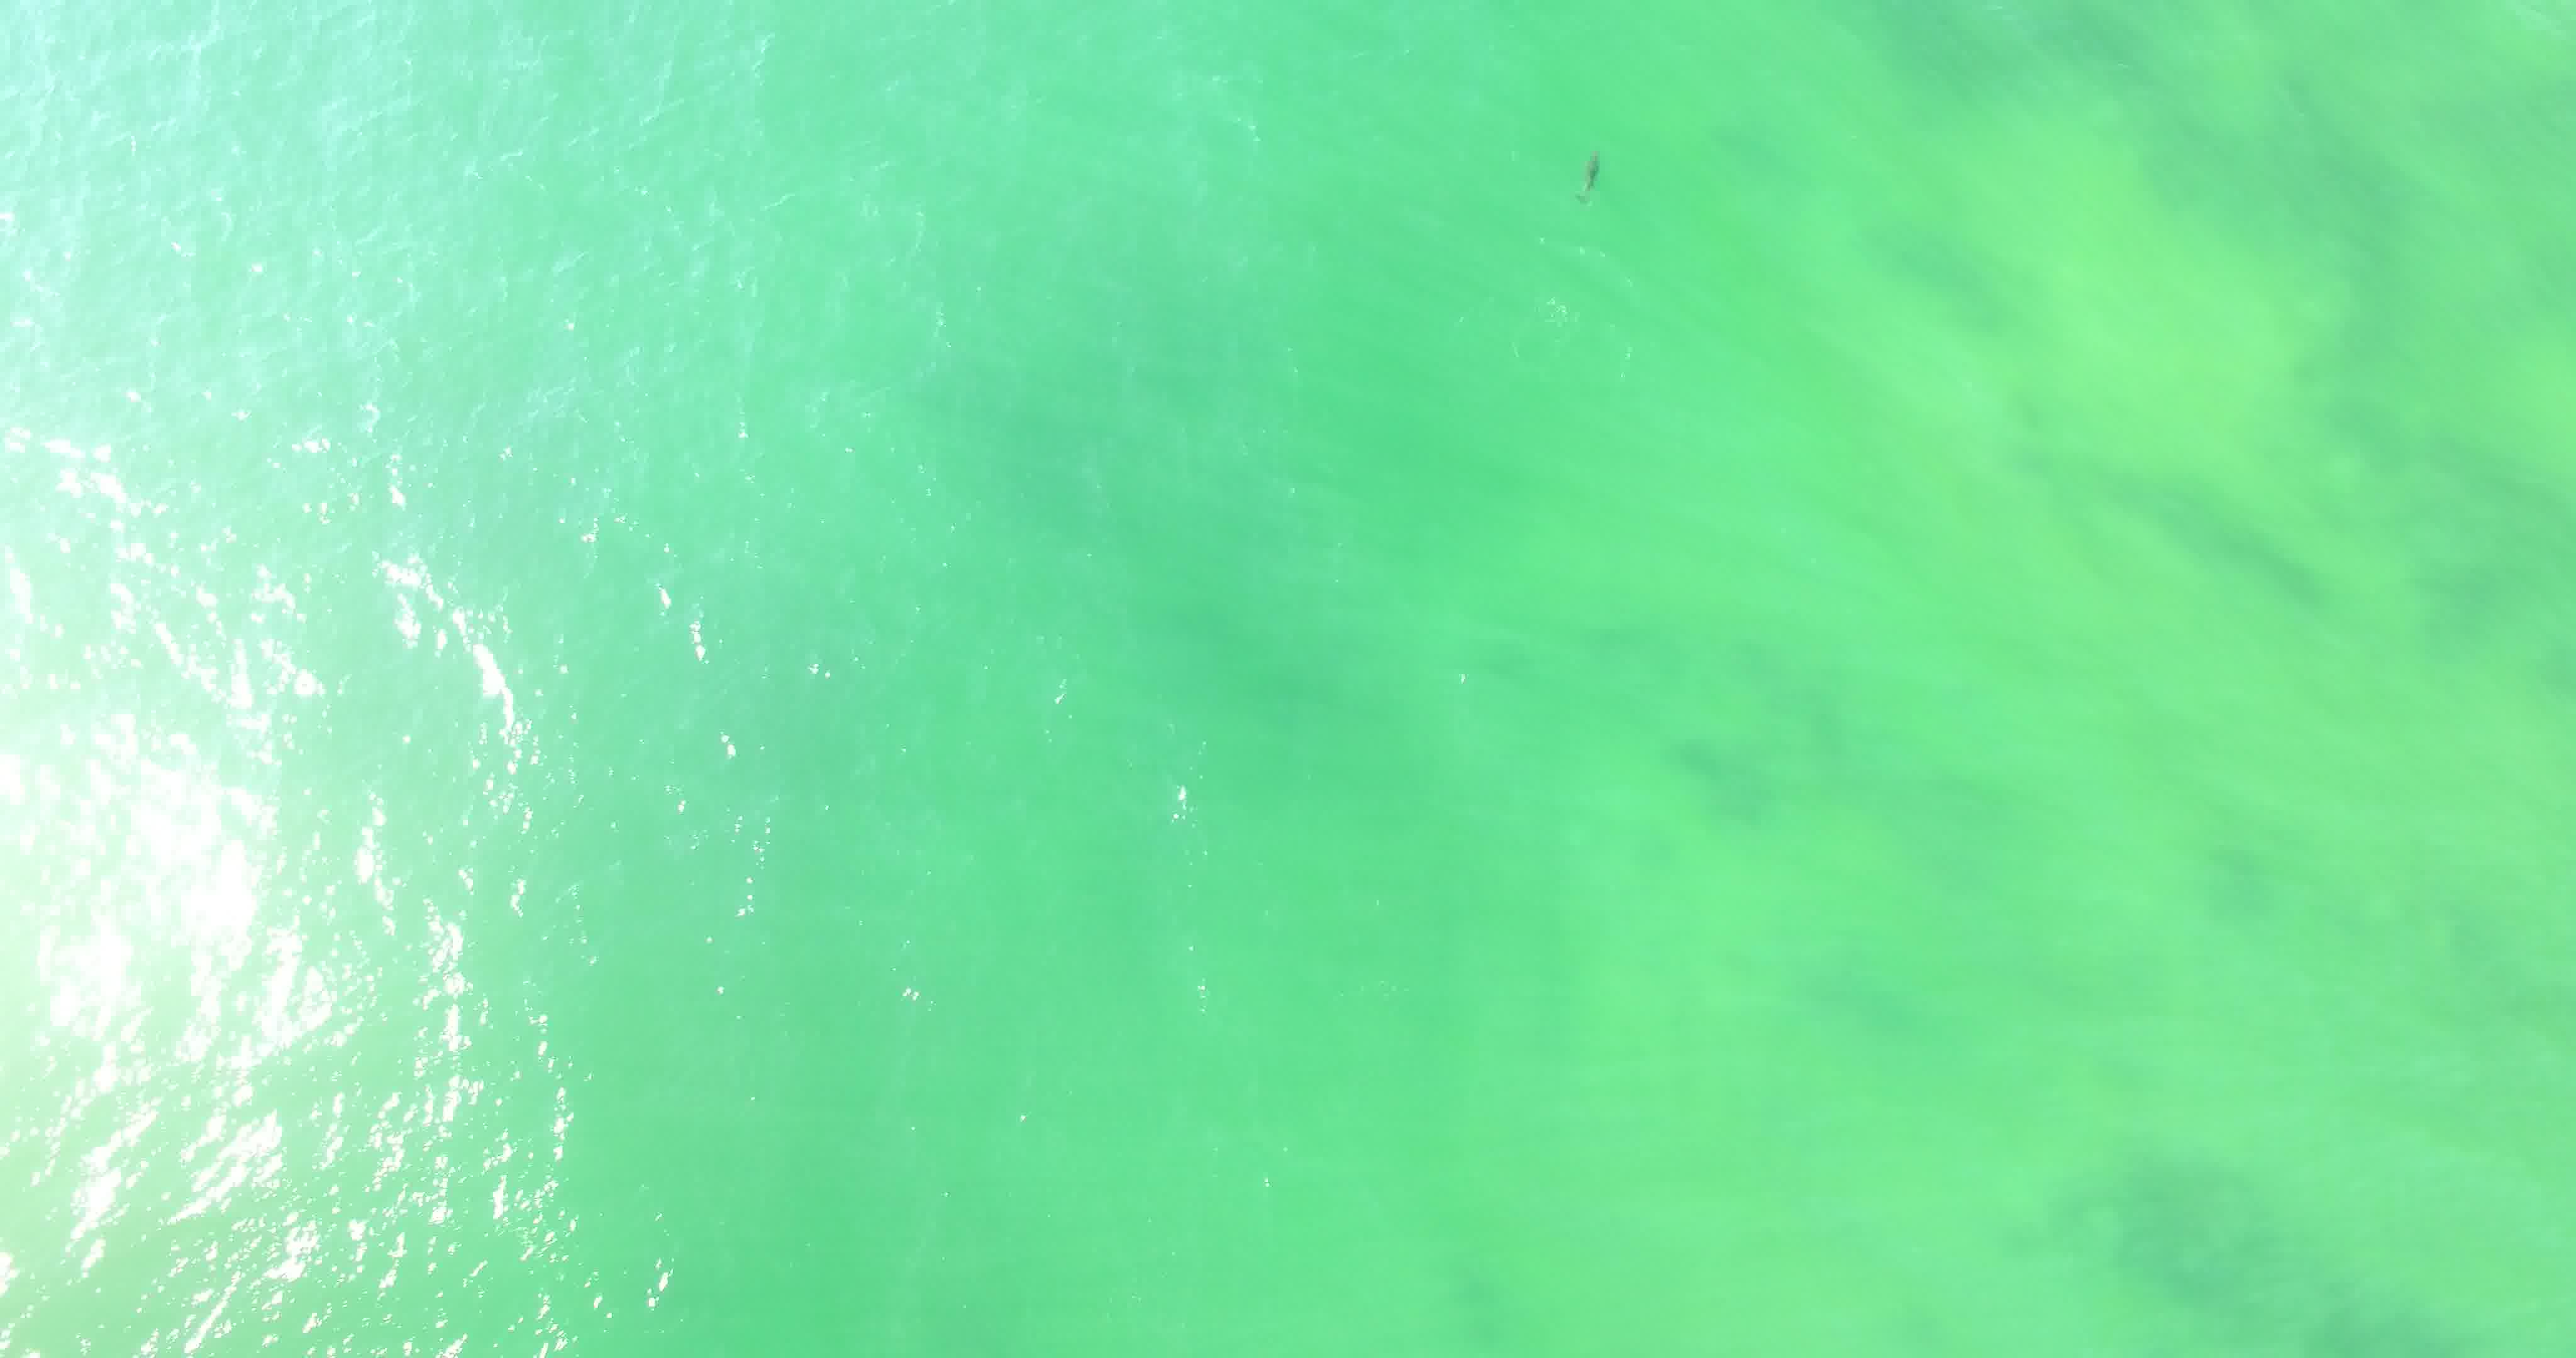dolphin: (1557, 129, 1617, 218)
